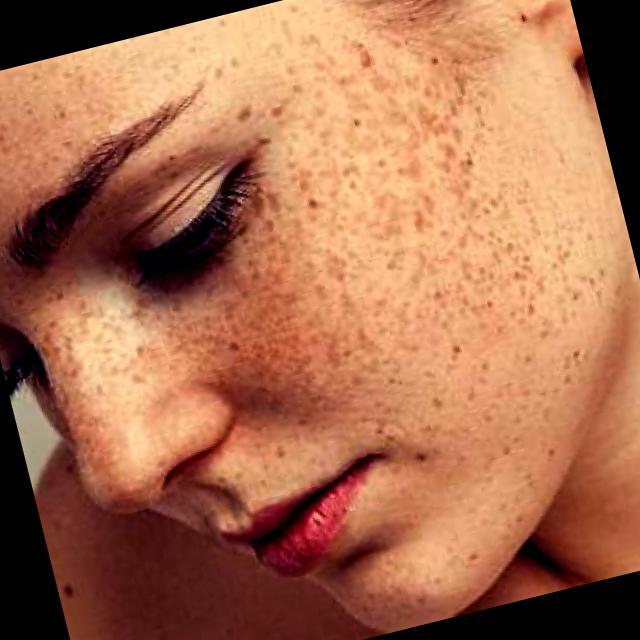pigmentation: (266, 85, 549, 374)
